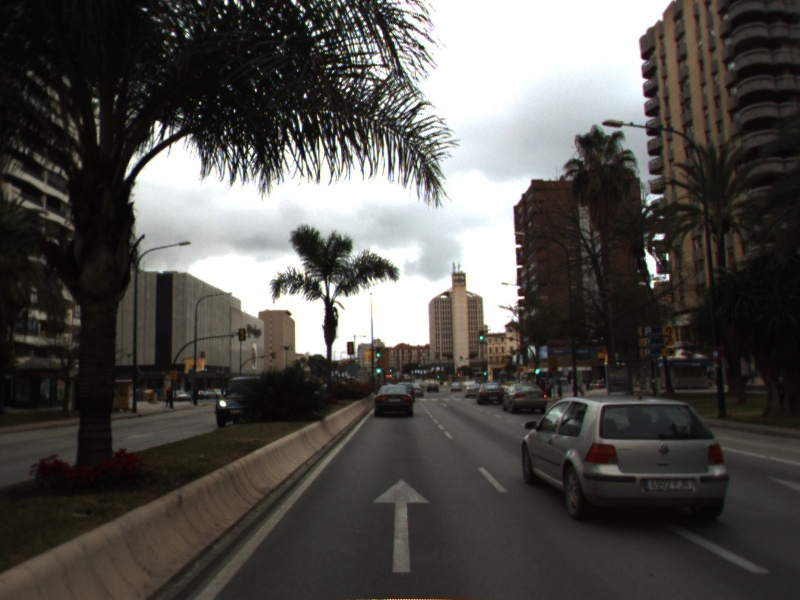STRAIGHT: (370, 476, 433, 575)
